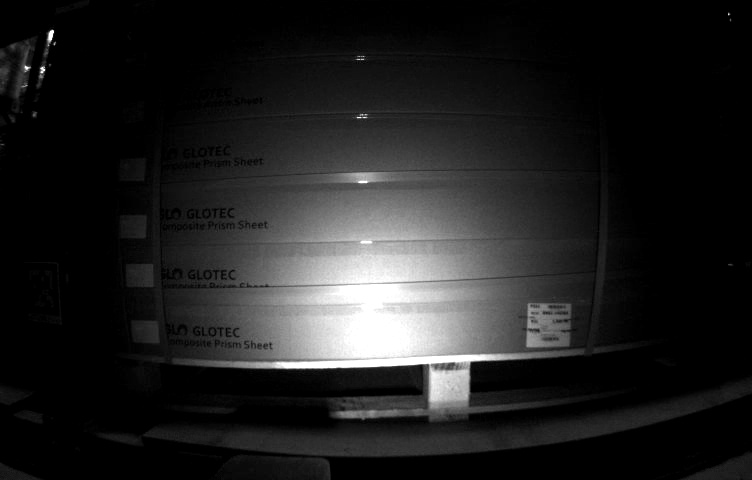True Barcode: (526, 301, 573, 347)
